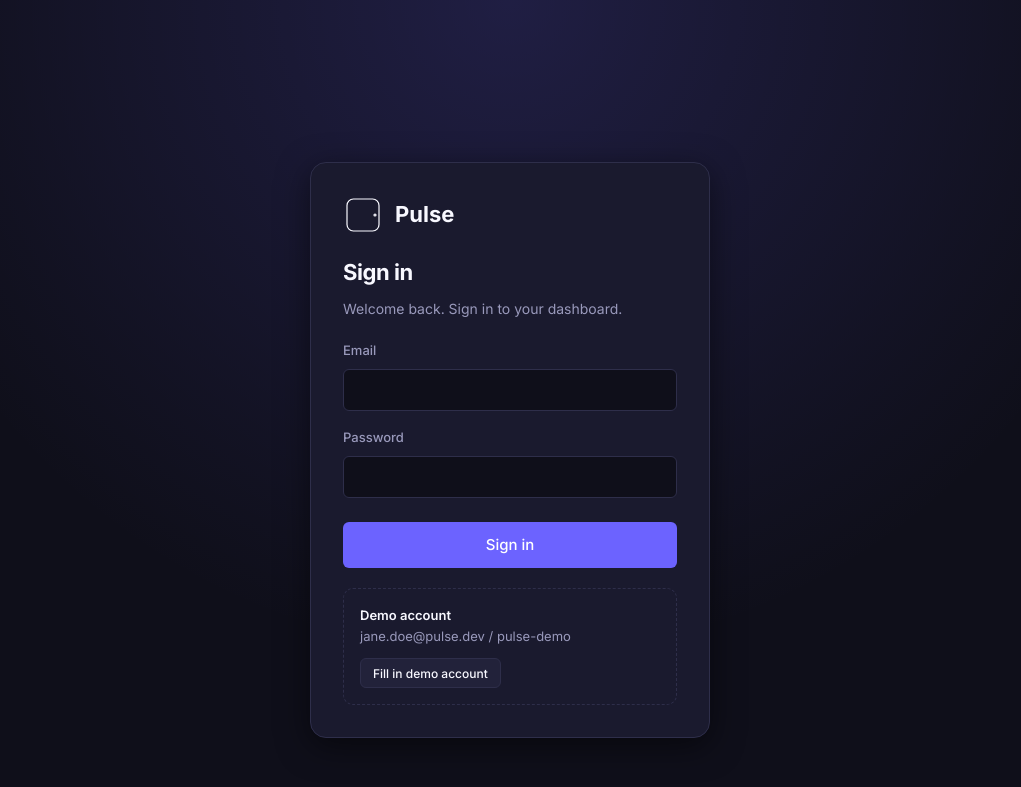
Test: shows an error for a wrong password
Type "jane.doe@pulse.dev" into the field labelled "Email" at coordinates (510, 390), box [343,369,677,411]
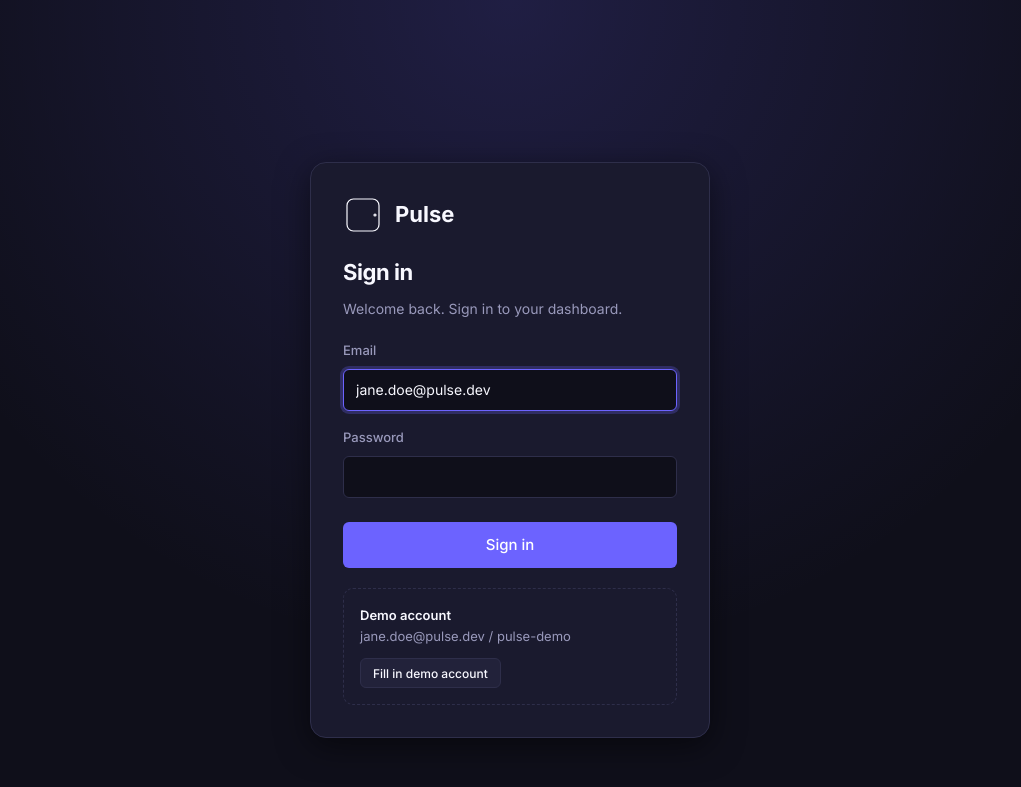
Type "wrong-password" into the password field labelled "Password" at coordinates (510, 477), box [343,456,677,498]
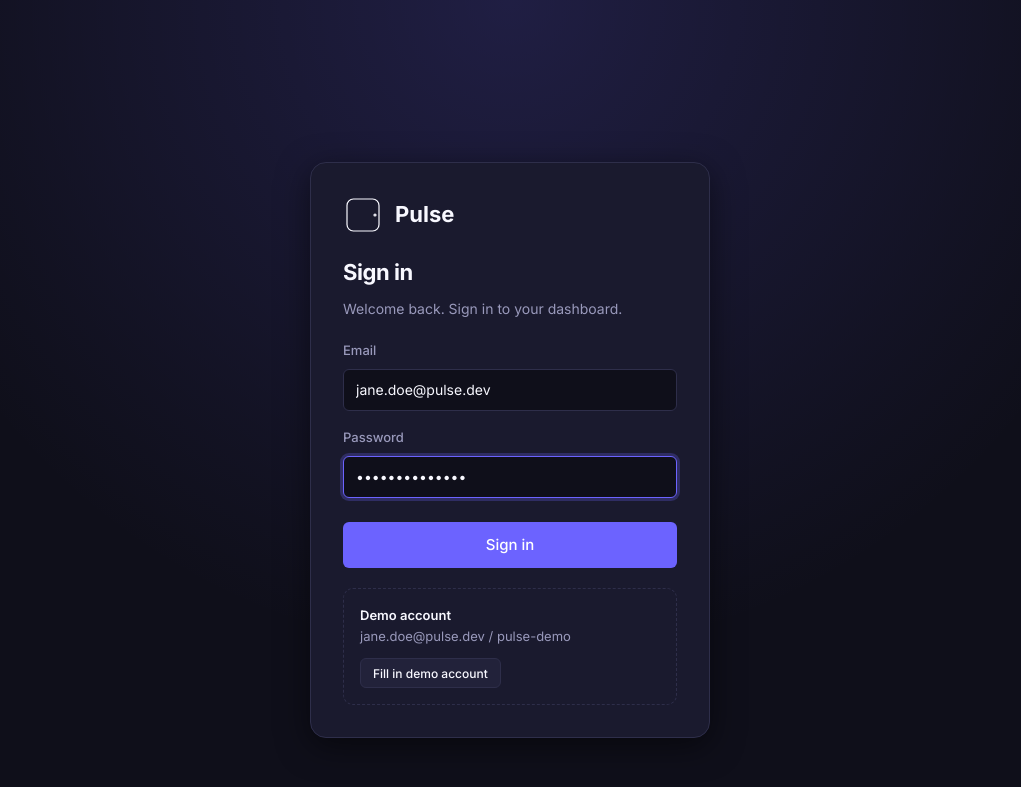
Click the button "Sign in" at coordinates (510, 545), box [343,522,677,568]
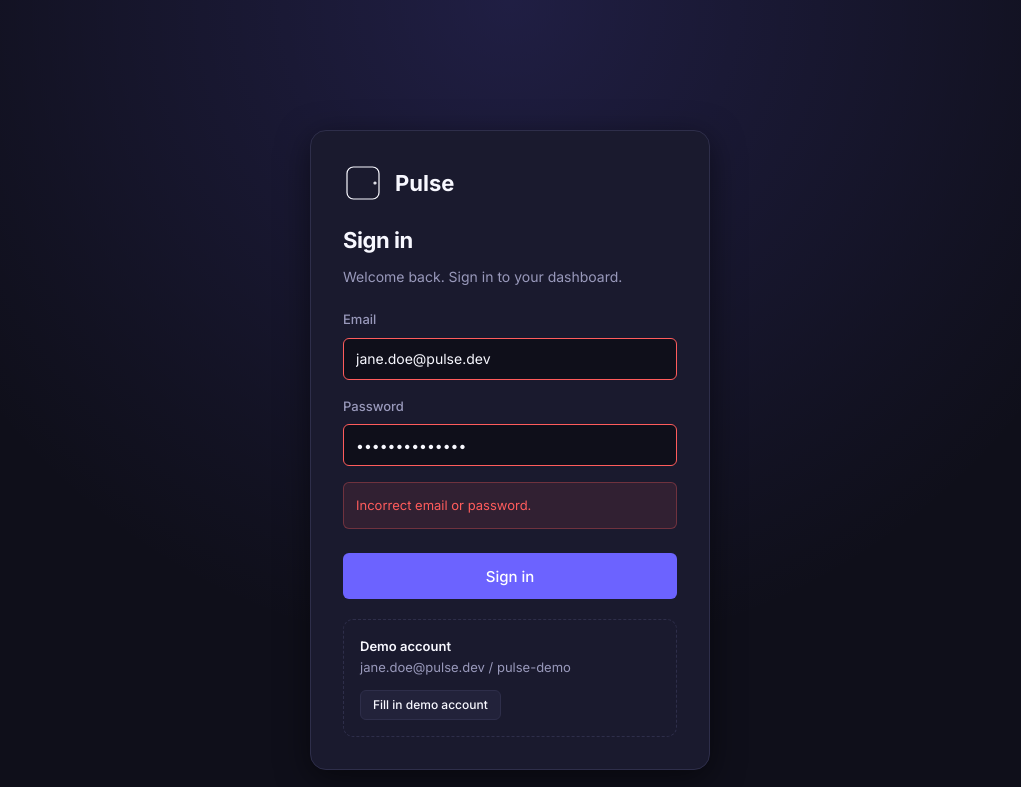
Expected: the message reads "Incorrect email or password.", [356,497,531,513]
